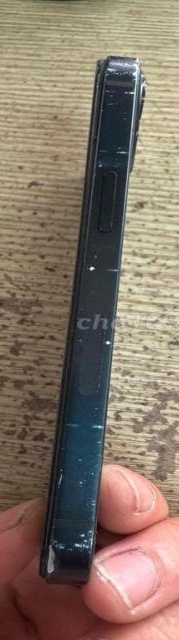scratch: (37, 58, 157, 571)
